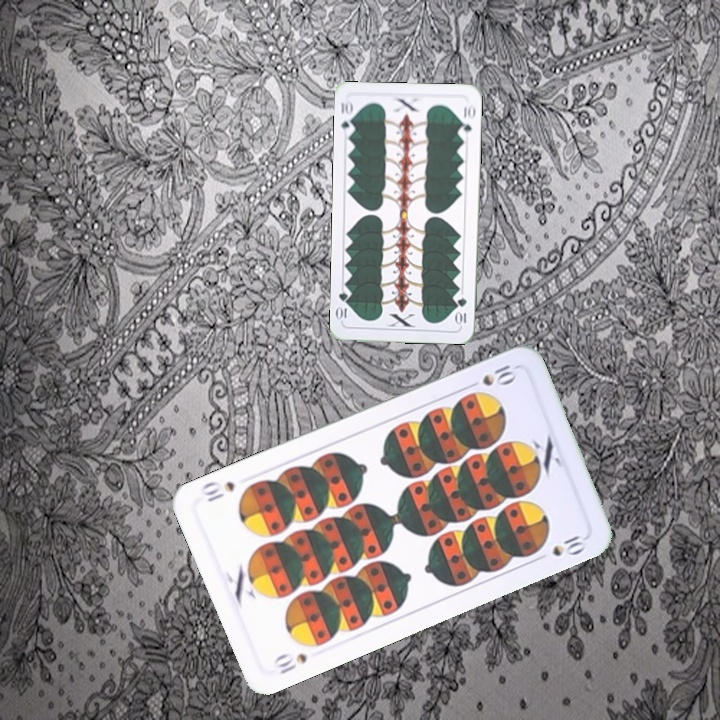G10: (337, 96, 356, 137), (453, 294, 469, 328)
S10: (478, 360, 520, 389), (269, 649, 310, 677)
